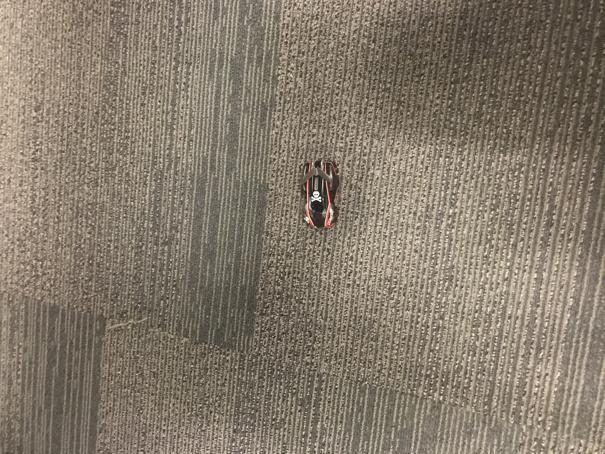Skull: (304, 159, 339, 230)
